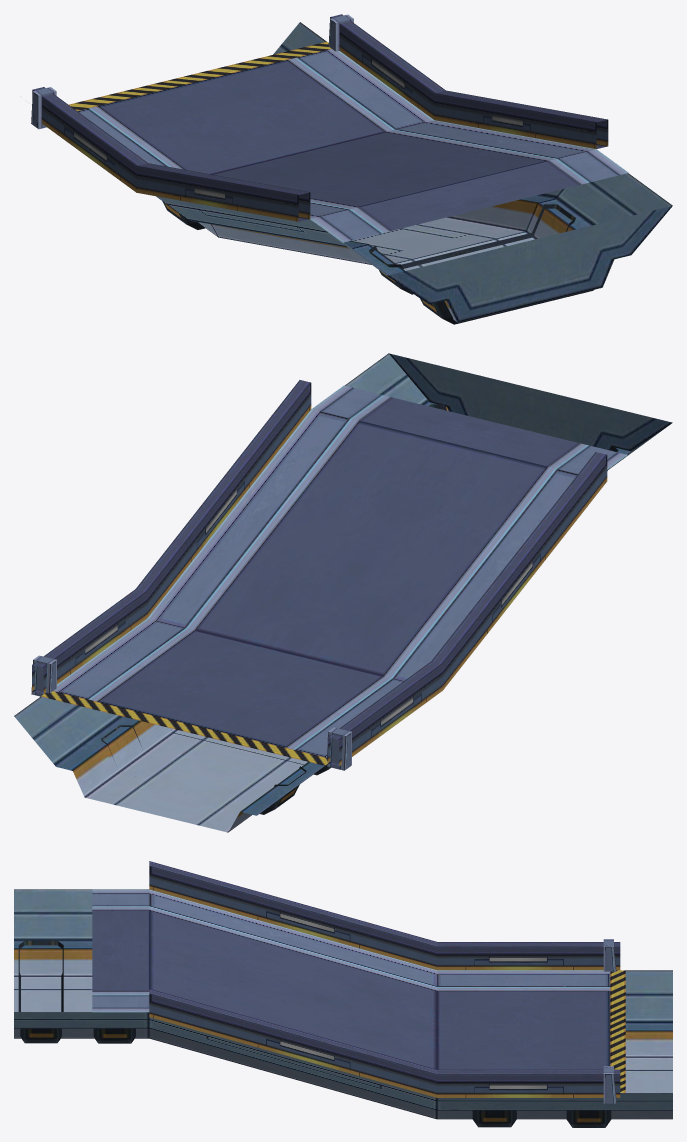
File: Scece_01_lu01.FBX
3 renders of one model, top to bottom at view 1: azimuth 30°, elevation 25°; view 2: azimuth 150°, elevation 25°; view 3: azimuth 270°, elevation 25°, orthographic. The views are drawn at different scales.
Parts seen in each view (by area): view 1: Mesh_0076, Mesh_0087; view 2: Mesh_0076, Mesh_0087; view 3: Mesh_0076, Mesh_0087.
Part boxes in pixels (left/top/right/bottom): Mesh_0076: left=31, top=14, right=628, bottom=242; Mesh_0087: left=156, top=22, right=672, bottom=324; Mesh_0076: left=31, top=380, right=627, bottom=770; Mesh_0087: left=14, top=353, right=672, bottom=832; Mesh_0076: left=92, top=861, right=625, bottom=1103; Mesh_0087: left=14, top=889, right=672, bottom=1127.
Bounding box in the file's own units: 1.9 × 1.12 × 3.92.
Materials: 2 (2 with a texture image).
